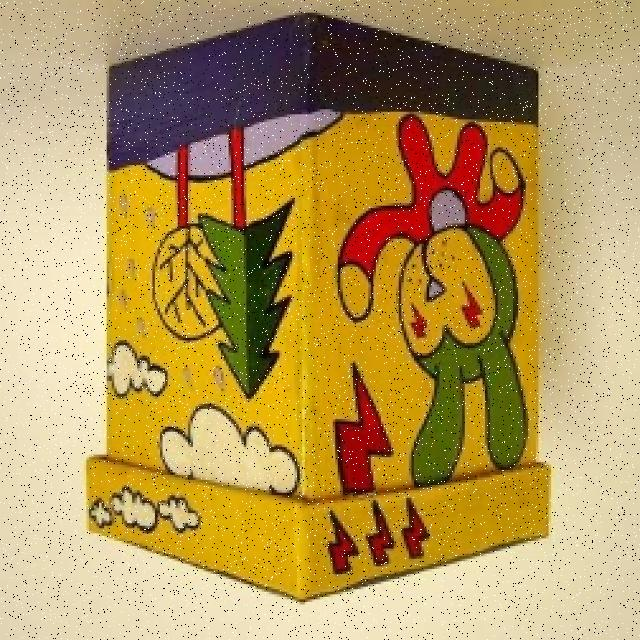box: (63, 19, 571, 558)
